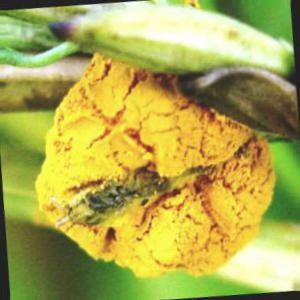Leaf_Scald: (95, 67, 187, 253), (196, 102, 240, 262), (36, 86, 75, 234)
